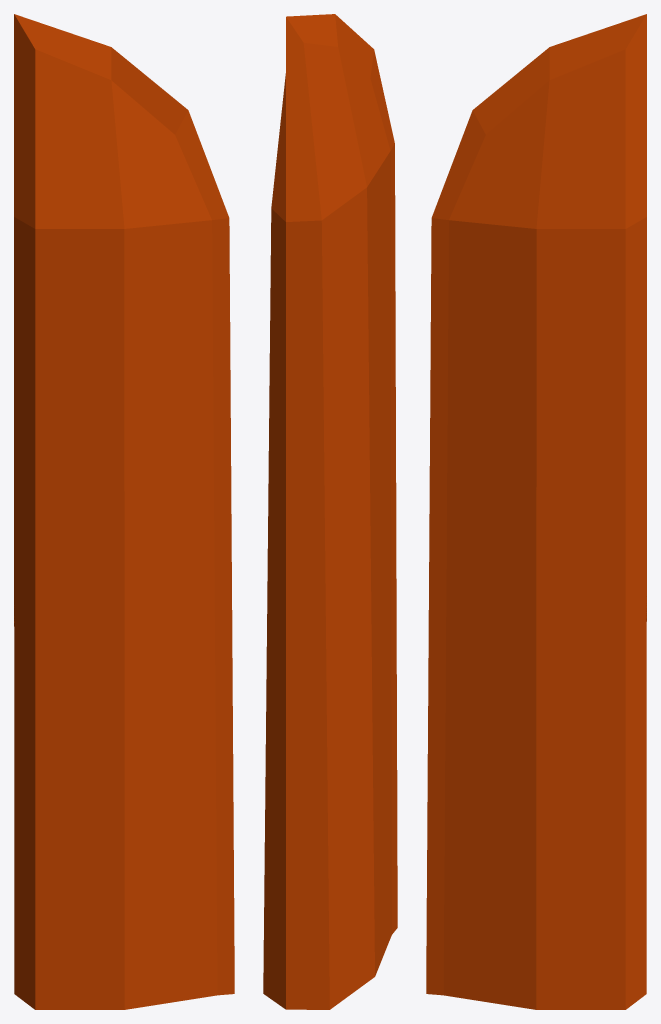
Rendered from SwordBladeMesh.fbx.
The picture shows the model from 3 angles, left to right: view 1: azimuth 90°, elevation 25°; view 2: azimuth 150°, elevation 25°; view 3: azimuth 270°, elevation 25°; orthographic projection.
Parts seen in each view (by area): view 1: BaseSword.003; view 2: BaseSword.003; view 3: BaseSword.003.
Boxes of the visible parts, left/top/right/bottom form: BaseSword.003: left=14, top=14, right=234, bottom=1009; BaseSword.003: left=263, top=14, right=397, bottom=1009; BaseSword.003: left=426, top=14, right=646, bottom=1009.
Size of the model in its own units: 24.95 by 356 by 72.59.
